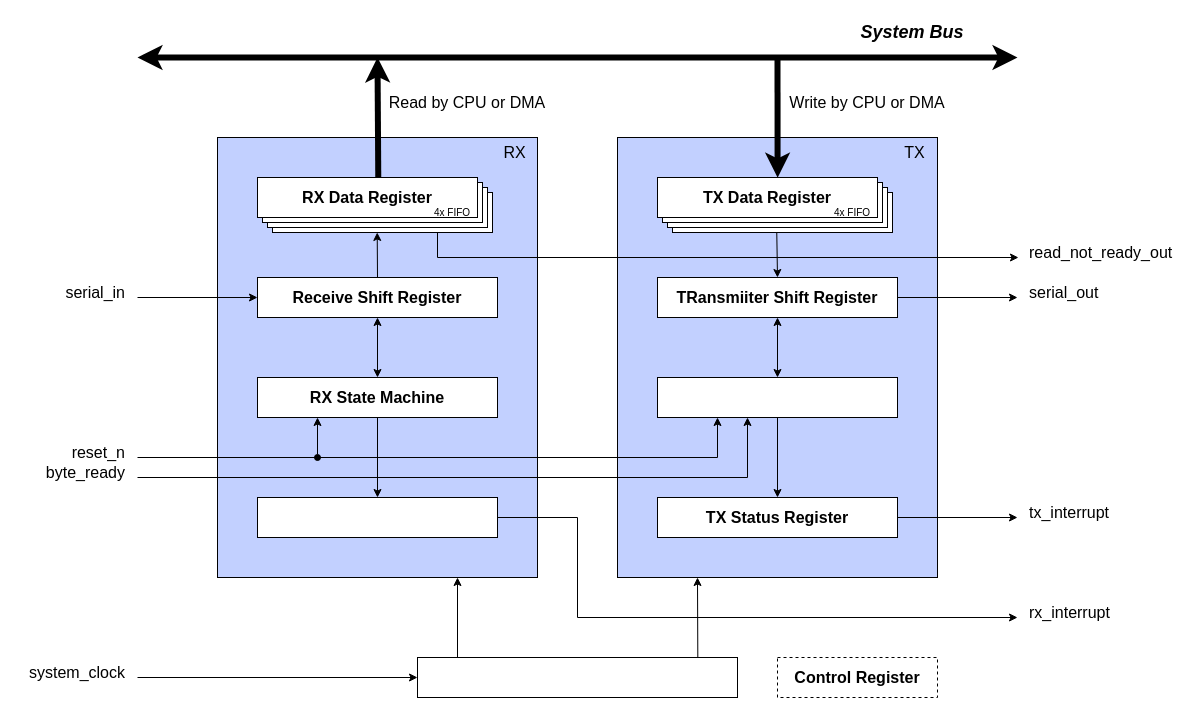
Image size: 1194x715. Some labels were removed from this diagram. Each missing label, with the centre of its shape:
16x oversampling: (577,677)
RX Status Register: (377,517)
TX State Machine: (777,397)
